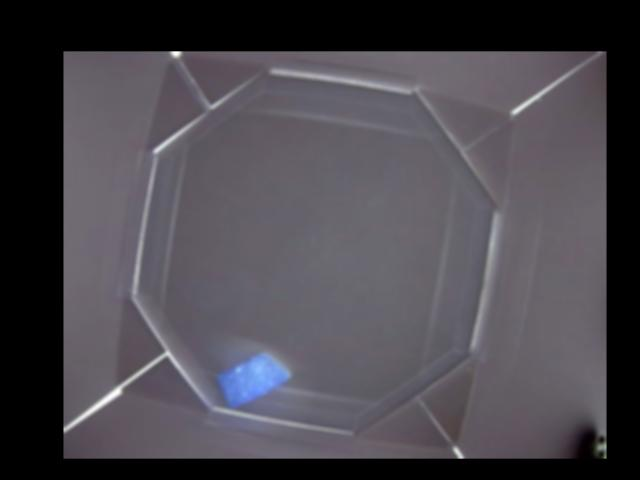Potato: (216, 350, 290, 407)
